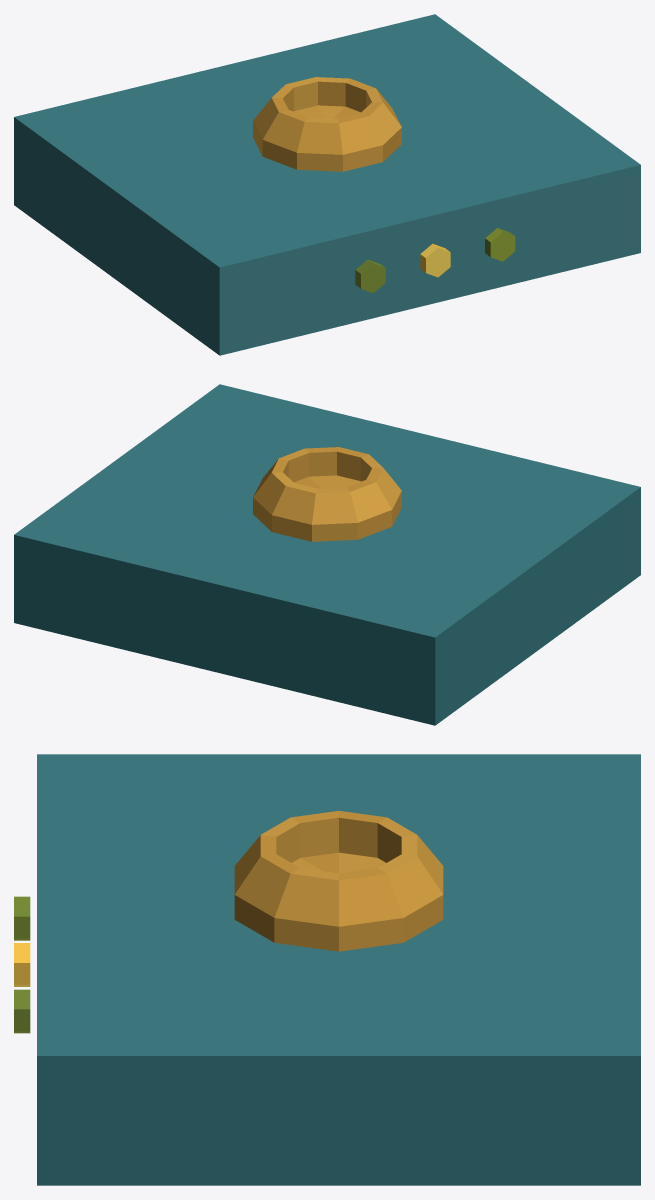
File: C03_Incubator_1Egg.fbx
The picture shows the model from 3 angles, top to bottom: view 1: azimuth 30°, elevation 25°; view 2: azimuth 150°, elevation 25°; view 3: azimuth 270°, elevation 25°; orthographic projection. The views are drawn at different scales.
Visible parts, largest first — view 1: C03_Incubator_1Egg.004; view 2: C03_Incubator_1Egg.004; view 3: C03_Incubator_1Egg.004.
Boxes of the visible parts, x1,y1,x2,y2 form: C03_Incubator_1Egg.004: (14,14,640,355); C03_Incubator_1Egg.004: (14,384,640,725); C03_Incubator_1Egg.004: (14,754,640,1185).
Bounding box in the file's own units: 0.65 × 0.19 × 0.571.
